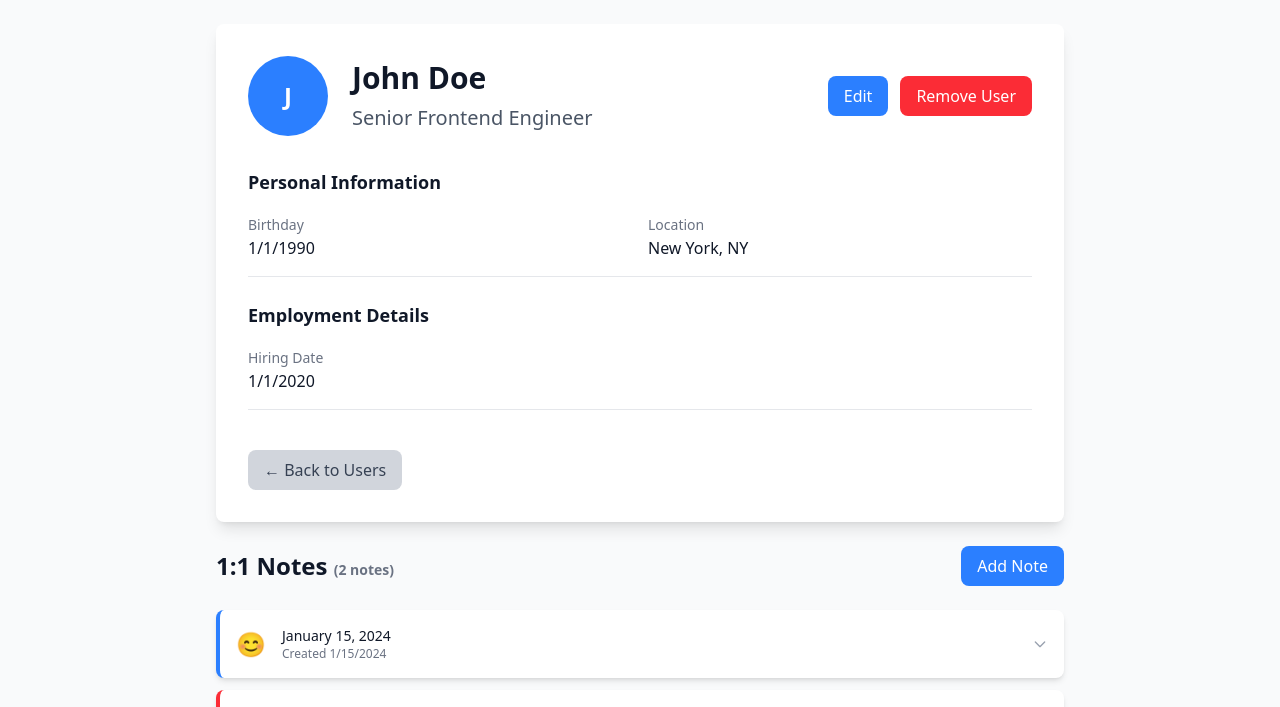
Test: UserDetail › shows loading state during note deletion
The width and height of the screenshot is (1280, 707).
Click the element with test id "note-card-1": (336, 636) [236,626,1048,662]
(page scrolled)
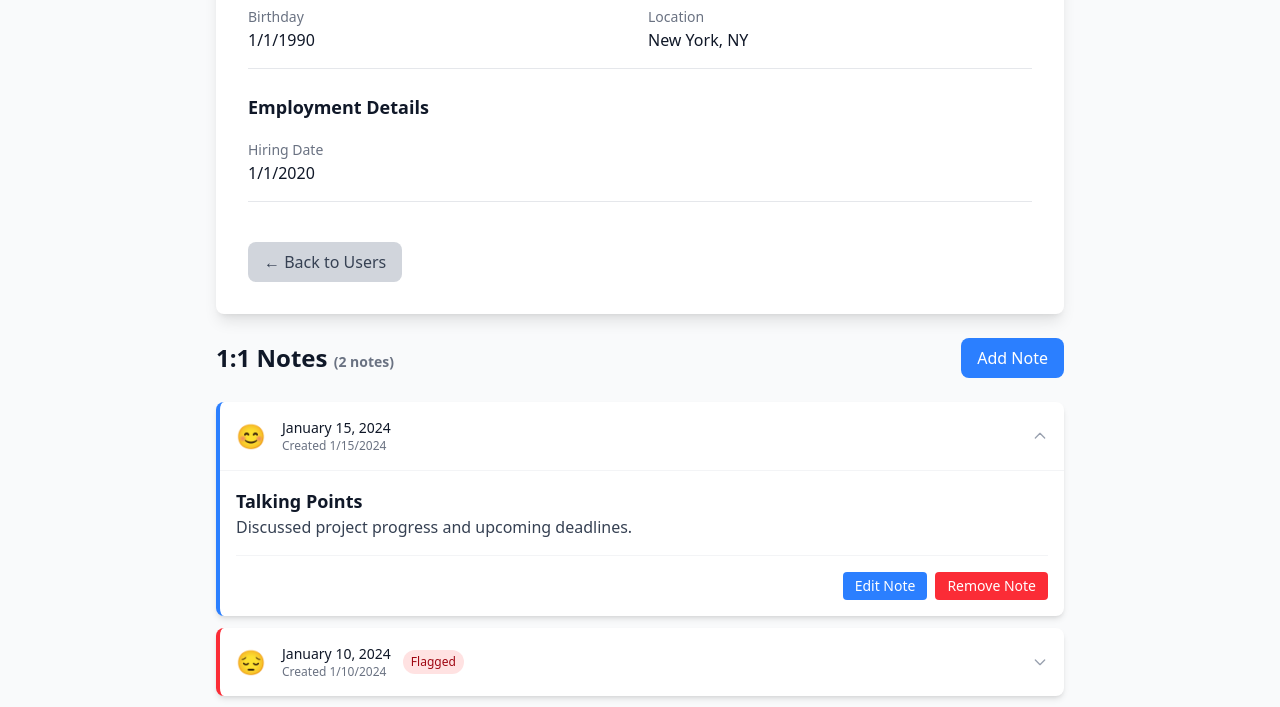
Click the button "Remove Note": (992, 586) [935,572,1048,600]
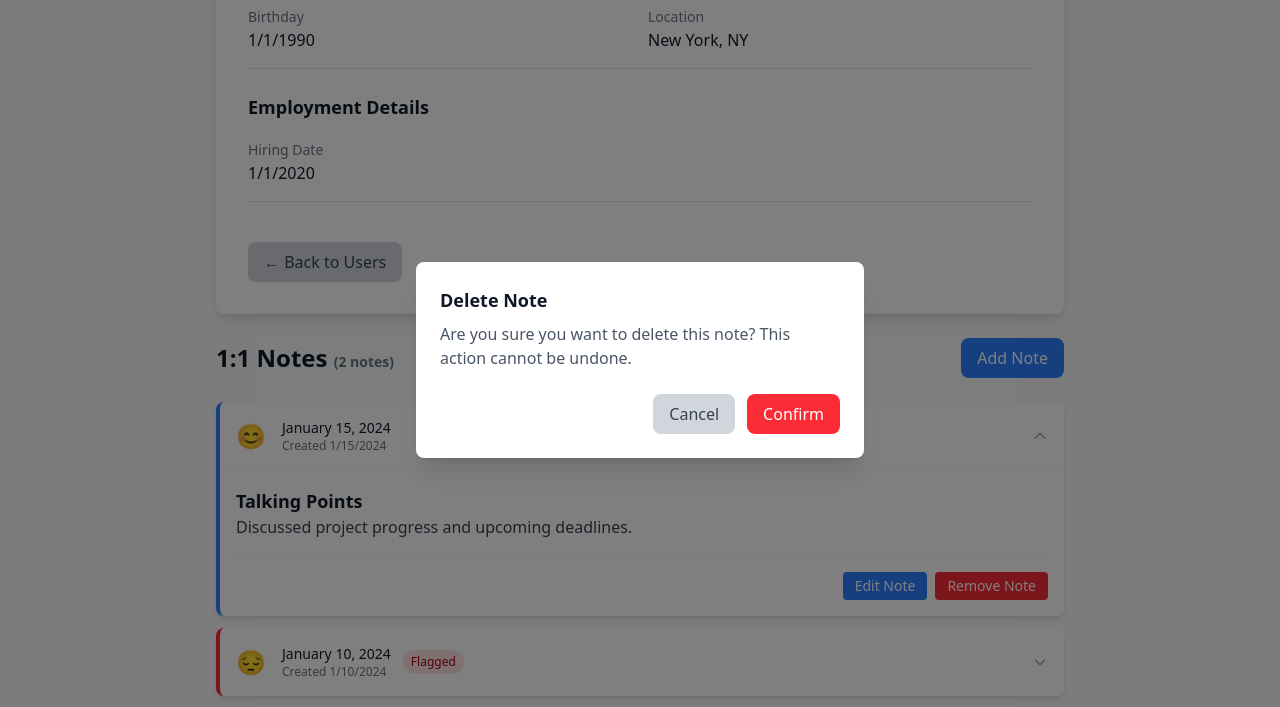
Click the button "Confirm": (794, 414) [747,394,840,434]
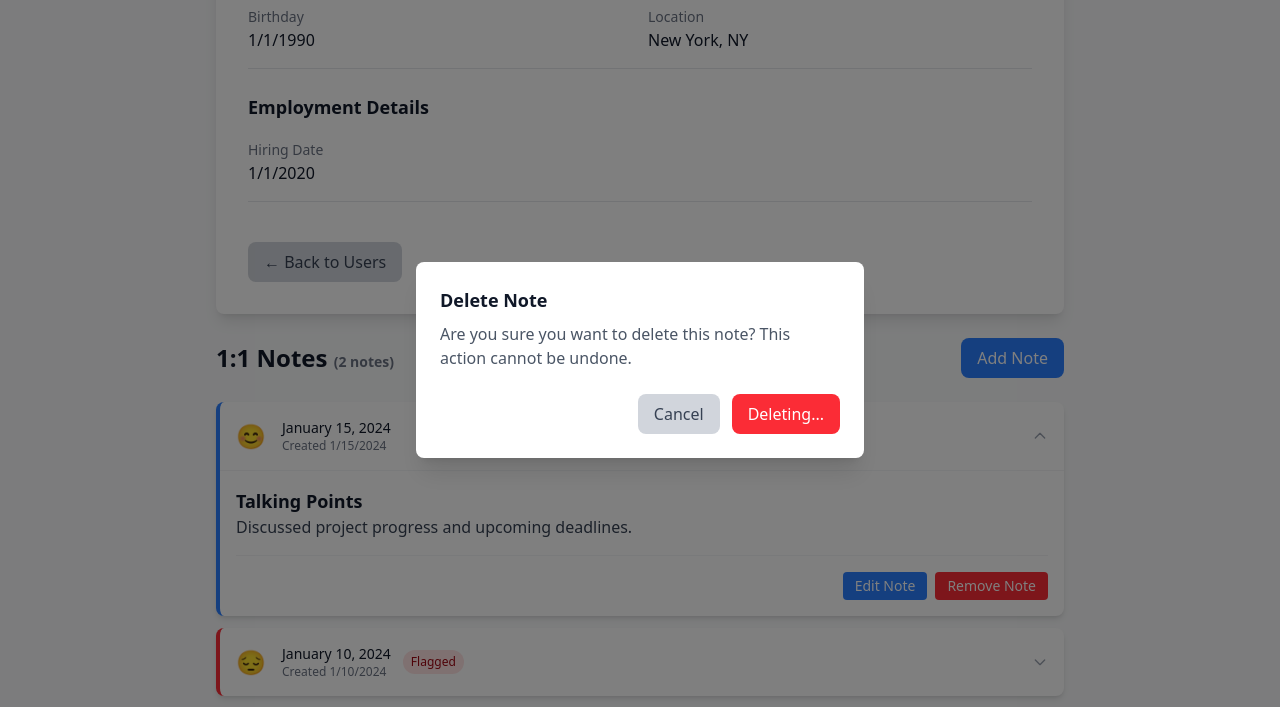
Result: the button "Deleting..." is shown at [732,394,840,434]
